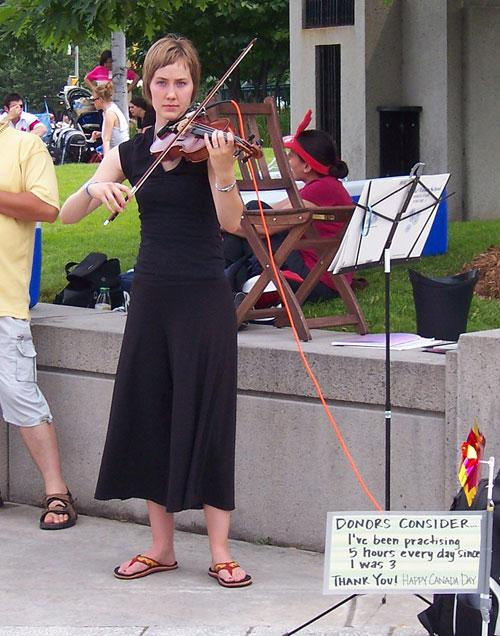person: (59, 35, 252, 587)
